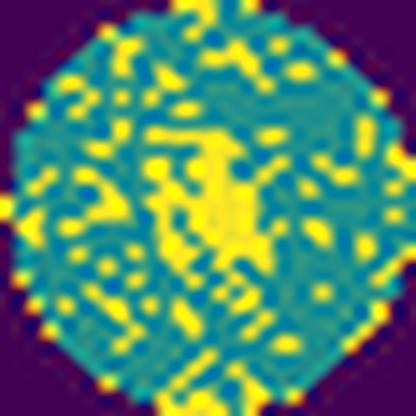Center: (141, 125, 278, 292)
